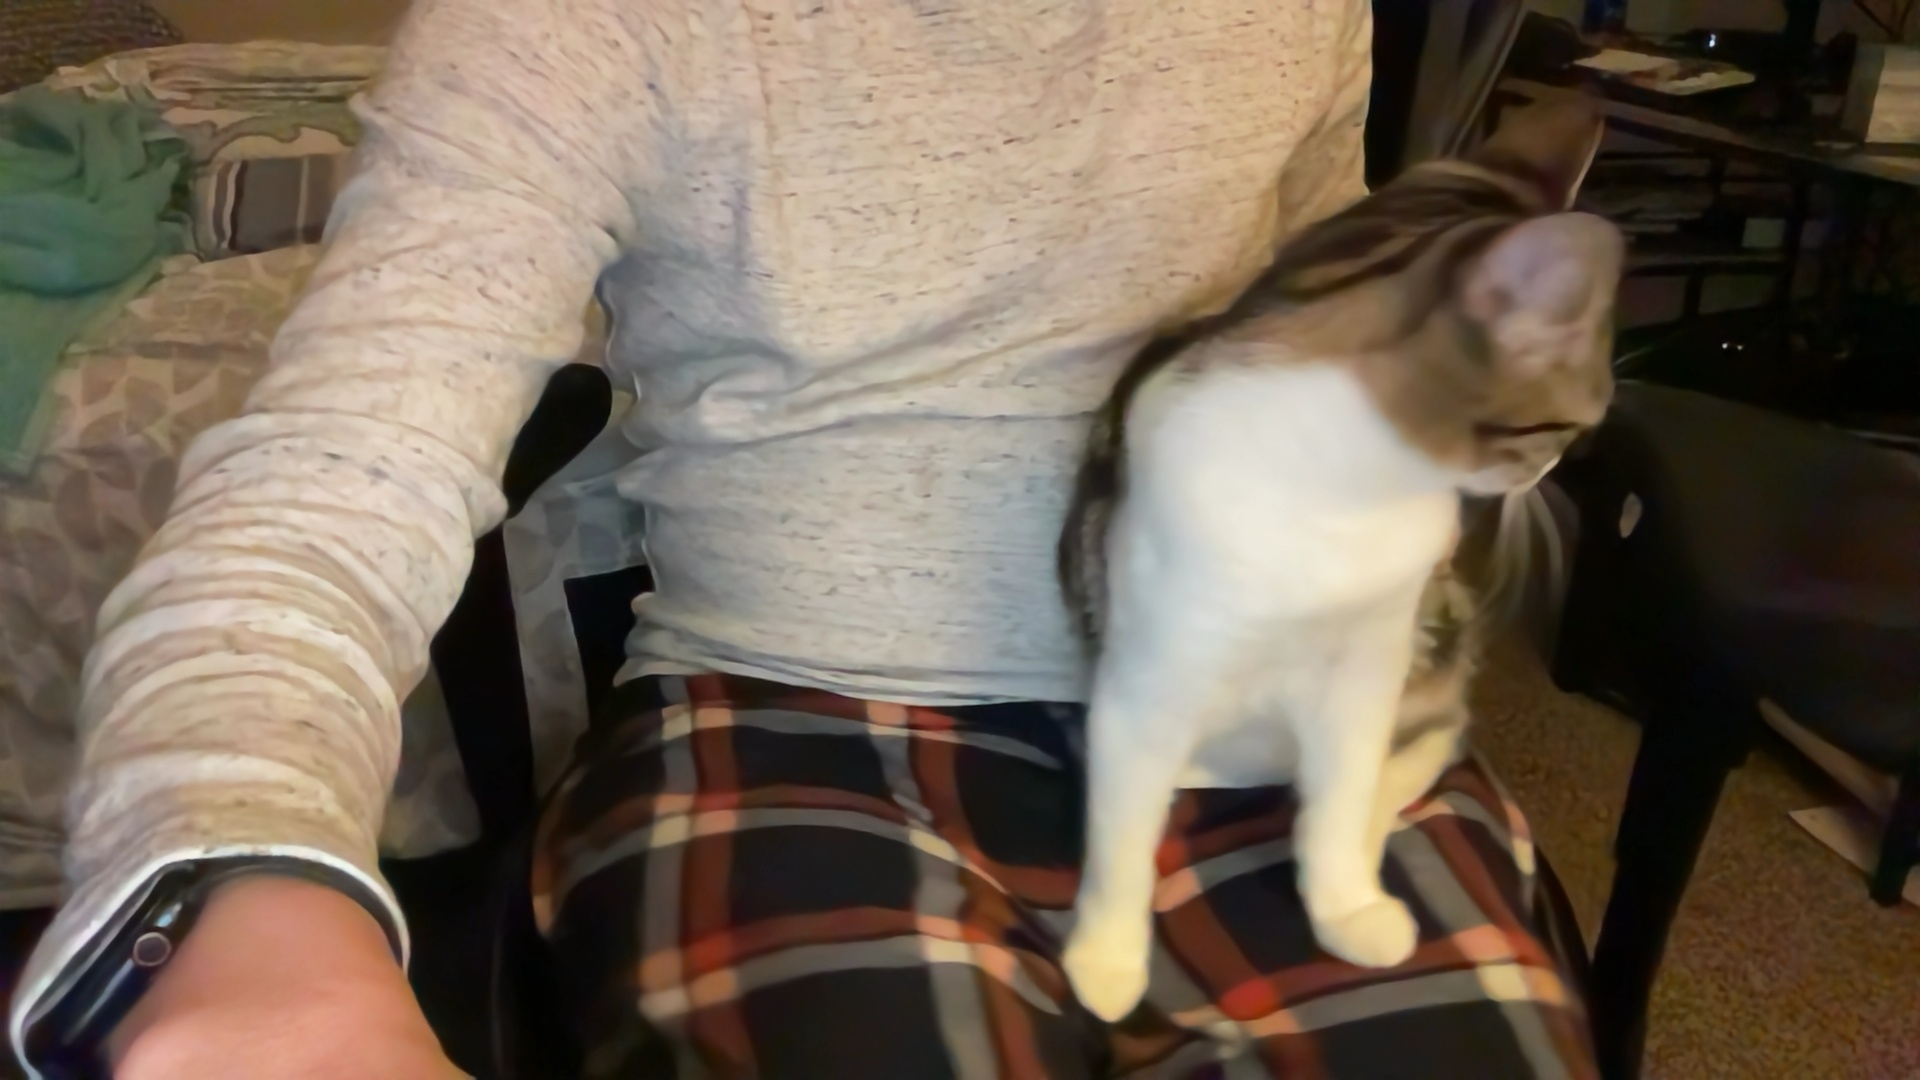cat: (1040, 84, 1650, 1051)
